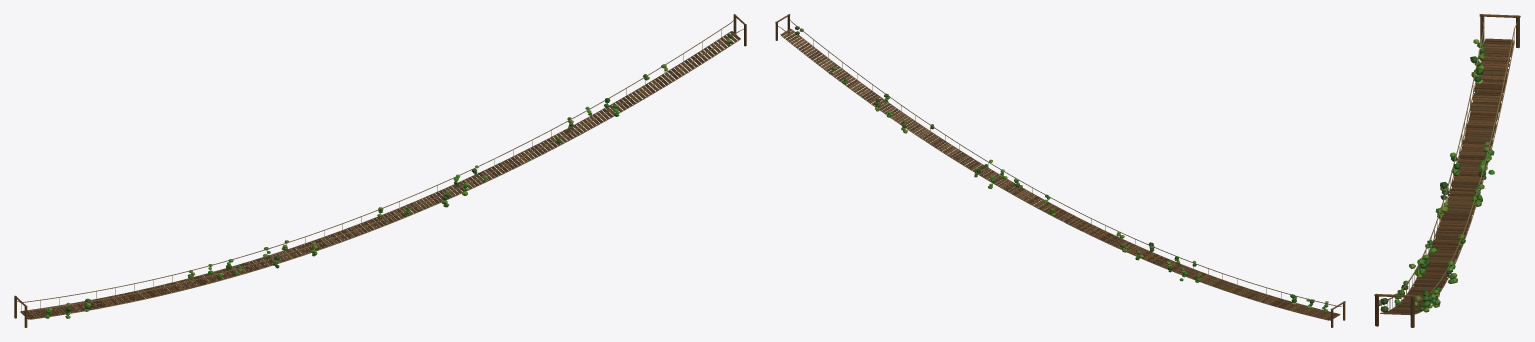
File: SM_Bridge_01_02.fbx
3 renders of one model, left to right at view 1: azimuth 90°, elevation 25°; view 2: azimuth 210°, elevation 25°; view 3: azimuth 330°, elevation 25°, orthographic. The views are drawn at different scales.
Visible parts, largest first — view 1: SM_Bridge_01_02; view 2: SM_Bridge_01_02; view 3: SM_Bridge_01_02.
Boxes of the visible parts, x1,y1,x2,y2 form: SM_Bridge_01_02: (14, 14, 746, 327); SM_Bridge_01_02: (775, 14, 1345, 327); SM_Bridge_01_02: (1374, 14, 1520, 327).
Bounding box in the file's own units: 40.94 × 20.59 × 83.77.
